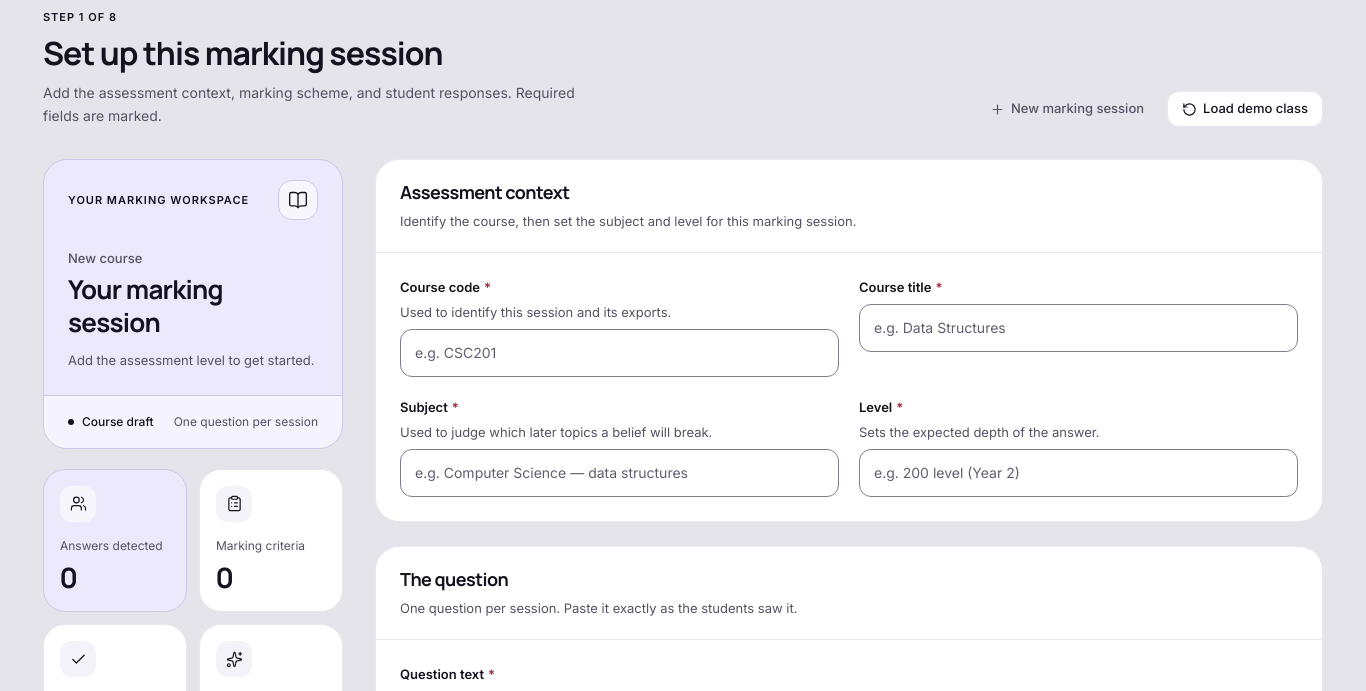
Test: presents one truthful primary action and optional advanced guidance
Click the button "Load demo class".
click(1245, 109)  # box [1167, 91, 1323, 127]
(page scrolled)
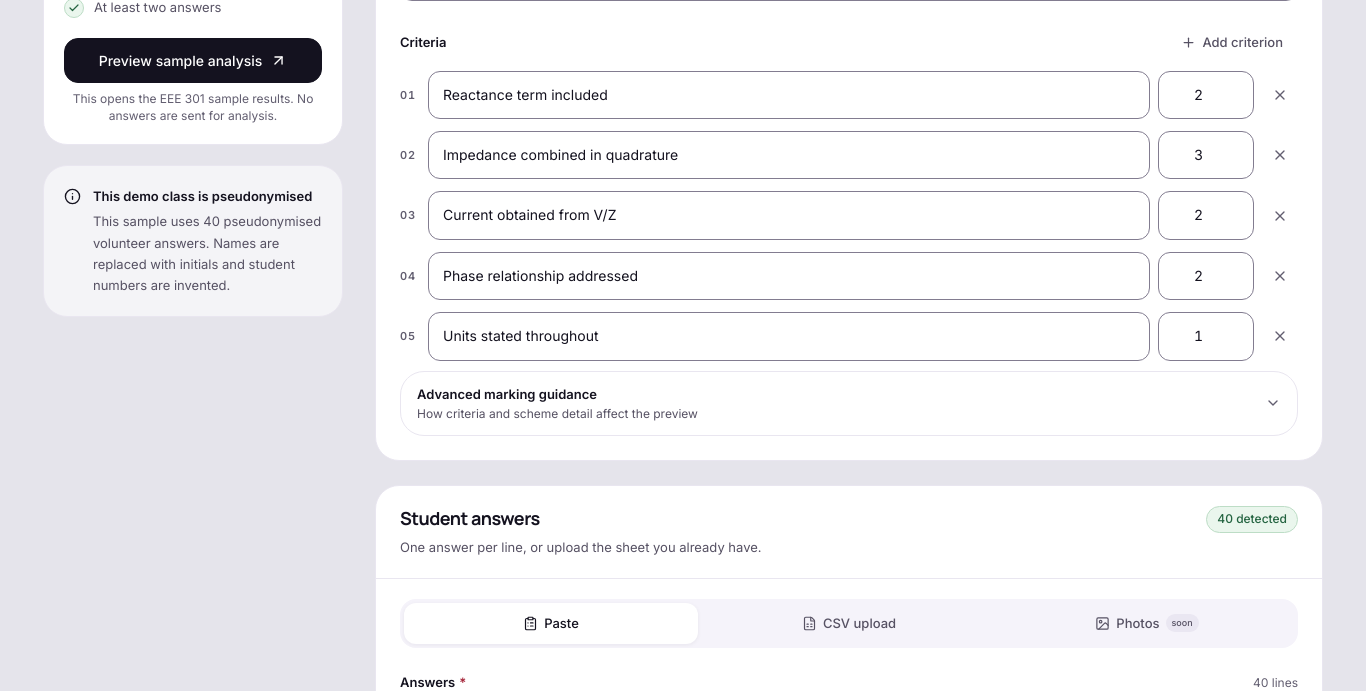
Expected: the text "Advanced marking guidance" is shown, [417, 386, 597, 402]
Result: the button "Preview sample analysis" is enabled at [64, 38, 322, 83]
